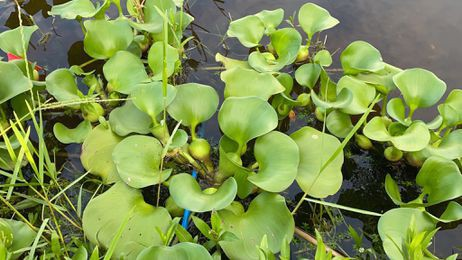water_hyacinth: (0, 0, 462, 260)
